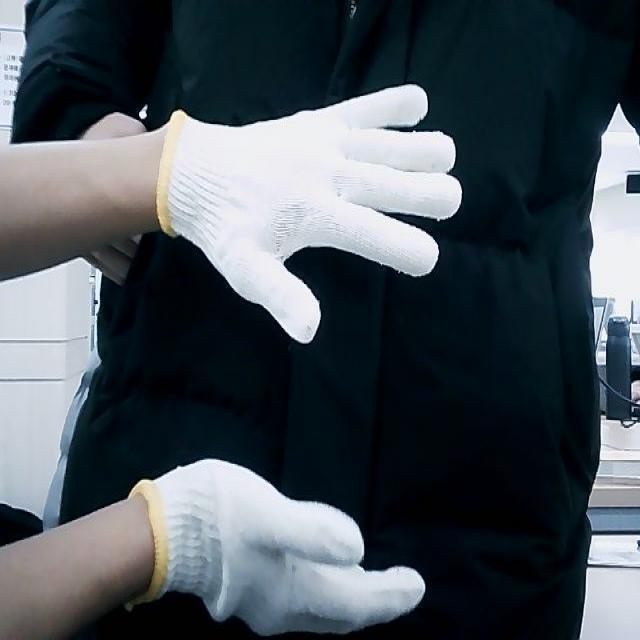Guantes: (156, 82, 462, 346), (136, 454, 428, 636)
